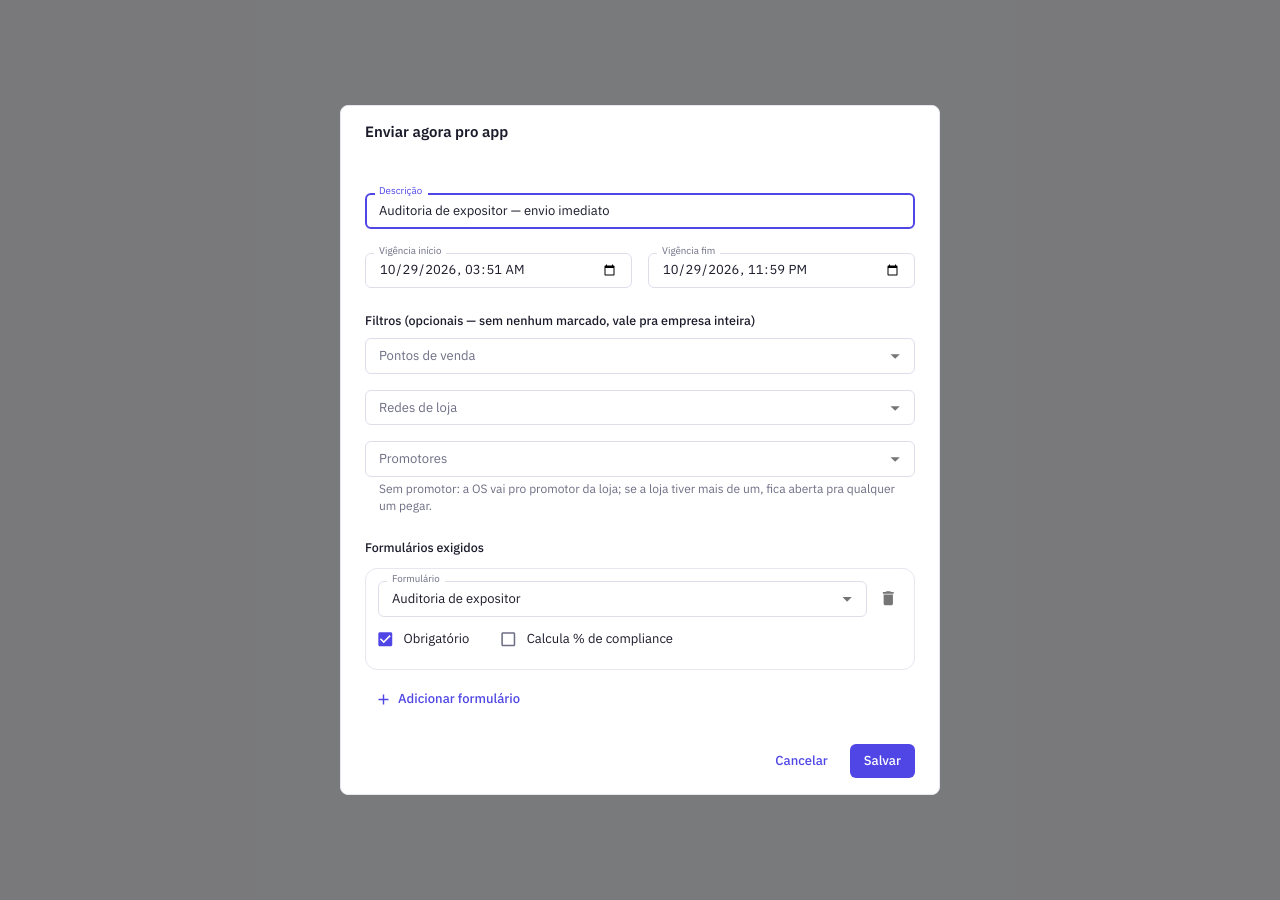
Test case: DirecionamentoFormDialog — envio imediato › avisa quando nenhuma OS foi gerada
Expected: the field showing "Auditoria de expositor — envio imediato" is shown, [365,193,915,229]
What coordinates should you click on to do the following:
click the button "Salvar"
I would click on:
 (882, 761)
Its box is [850,744,915,778].
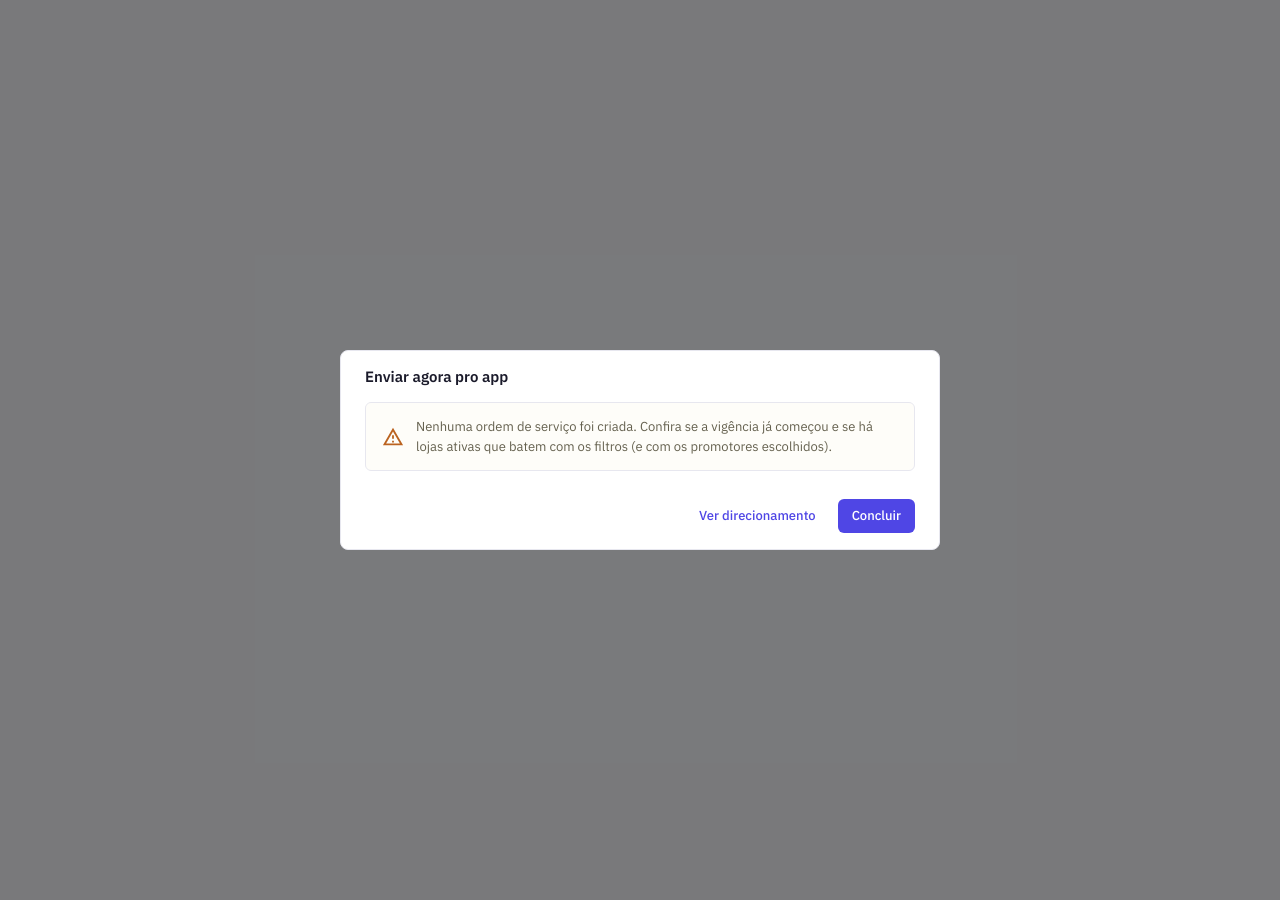
Expected: the text "Nenhuma ordem de serviço foi criada" is shown, [416,418,873,455]
